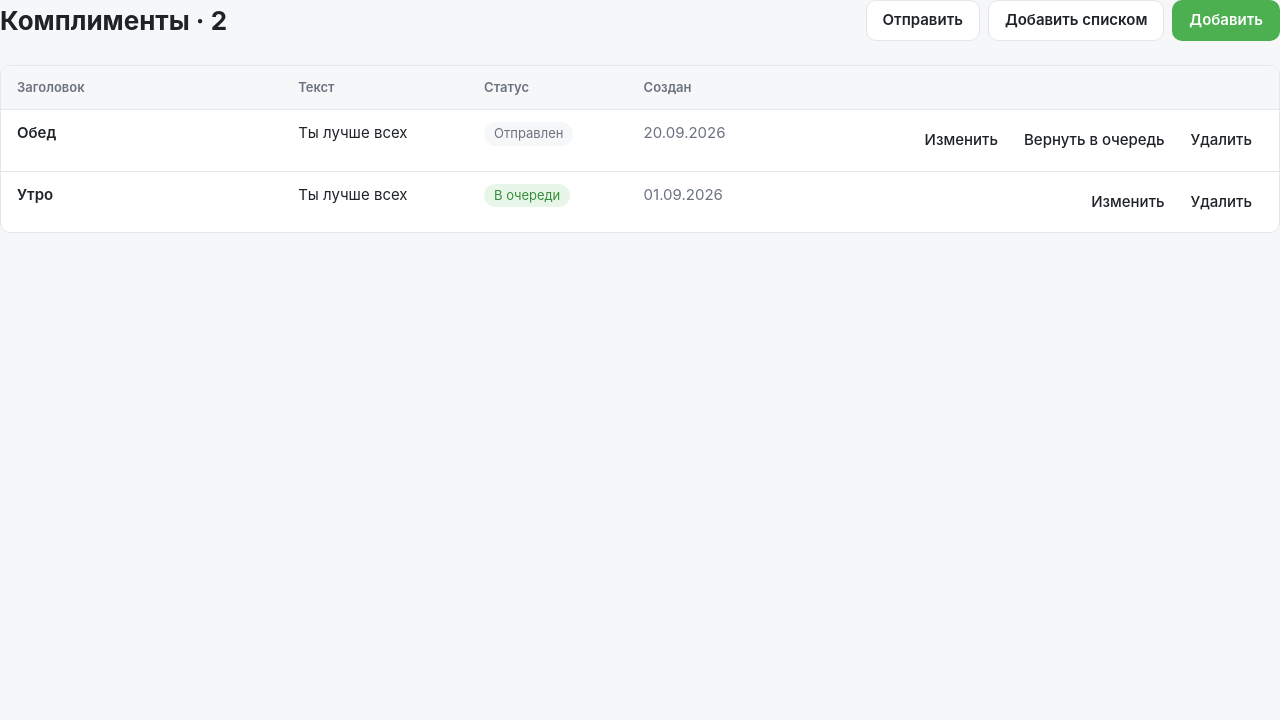
Scenario: ComplimentsPage: отправка одного комплимента › отправленные комплименты недоступны и стоят в конце
The width and height of the screenshot is (1280, 720).
Expected: the heading "Комплименты · 2" is shown, [0,1,227,40]
Click the button "Отправить": (923, 20) [866,0,980,40]
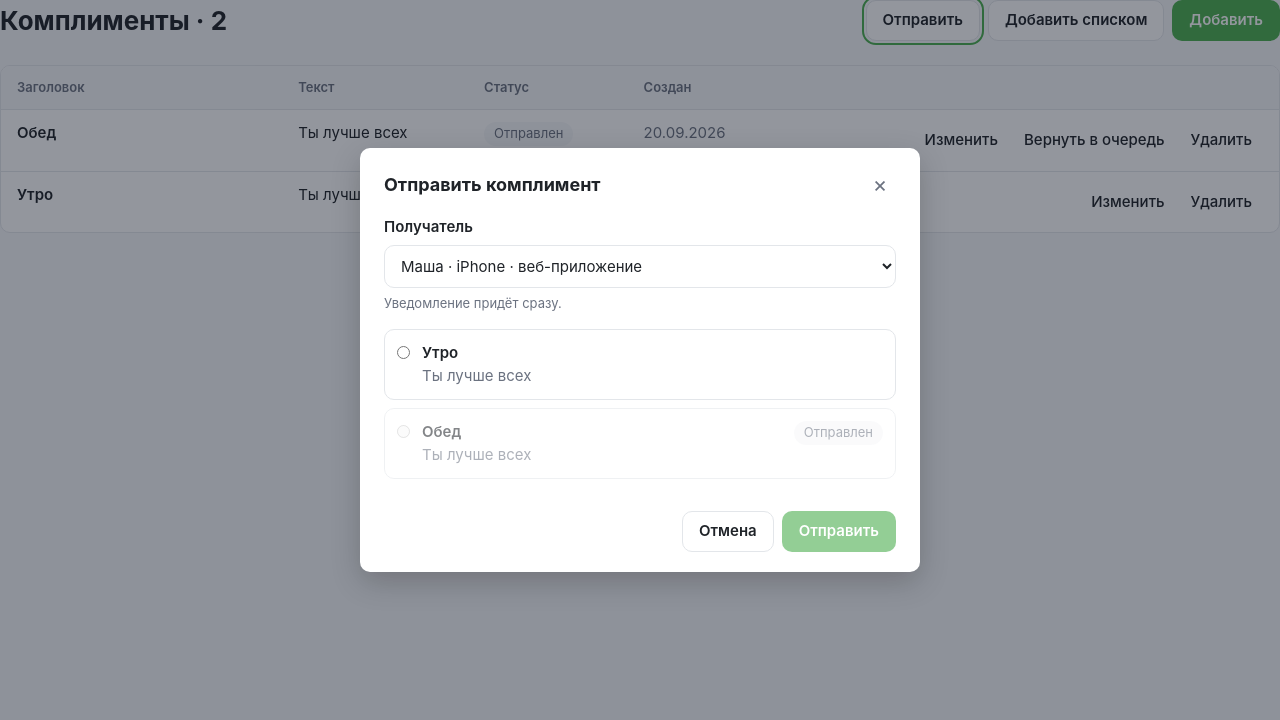
Expected: the radio button labelled "Обед Ты лучше всех Отправлен" is disabled, [397,425,410,438]
Result: the radio button labelled "Утро Ты лучше всех" is enabled at [397,346,410,359]
Result: the text "Отправлен" is shown at [794,421,883,445]
